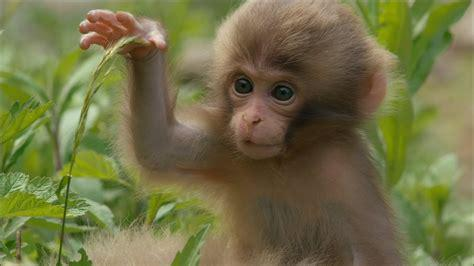monkey: (80, 1, 412, 266)
